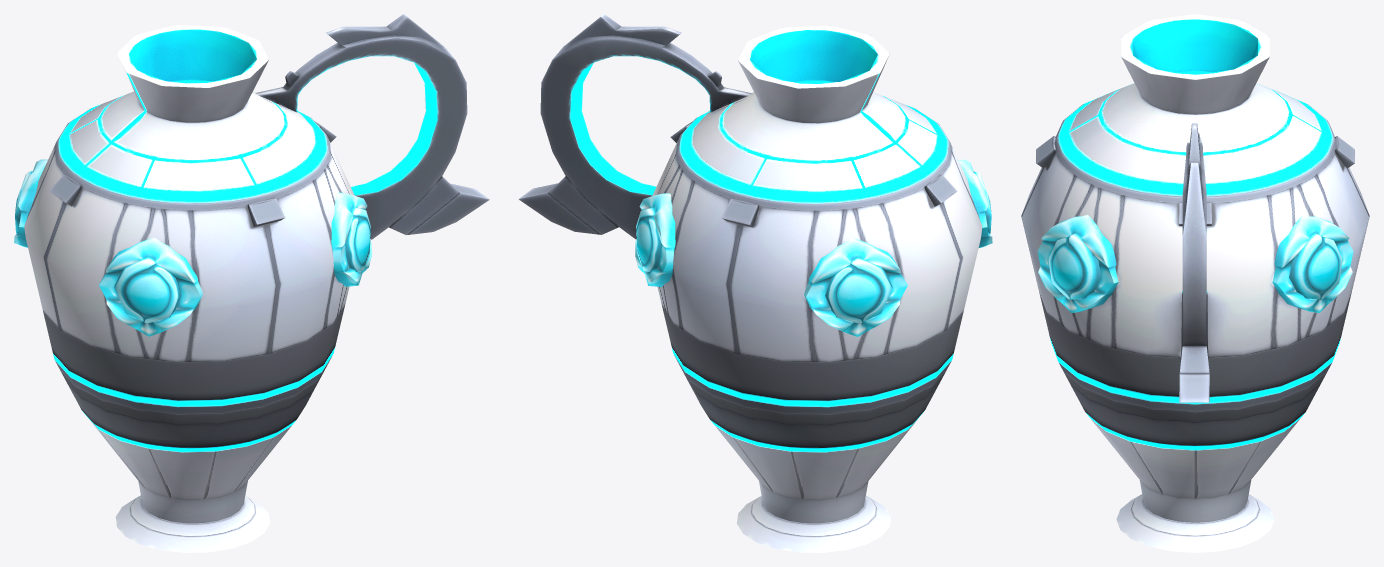
The model's file is obj_vase.gltf.
3 renders of one model, left to right at view 1: azimuth 30°, elevation 25°; view 2: azimuth 150°, elevation 25°; view 3: azimuth 270°, elevation 25°, orthographic.
Visible parts, largest first — view 1: obj_vase; view 2: obj_vase; view 3: obj_vase.
Part boxes in pixels (x1,y1,x2,y2): obj_vase: [14, 14, 489, 552]; obj_vase: [518, 14, 992, 552]; obj_vase: [1021, 14, 1369, 552].
Size of what is drawn, in the model's own units: 1.38 by 1.4 by 0.9329.
1 material, 1 textured.
